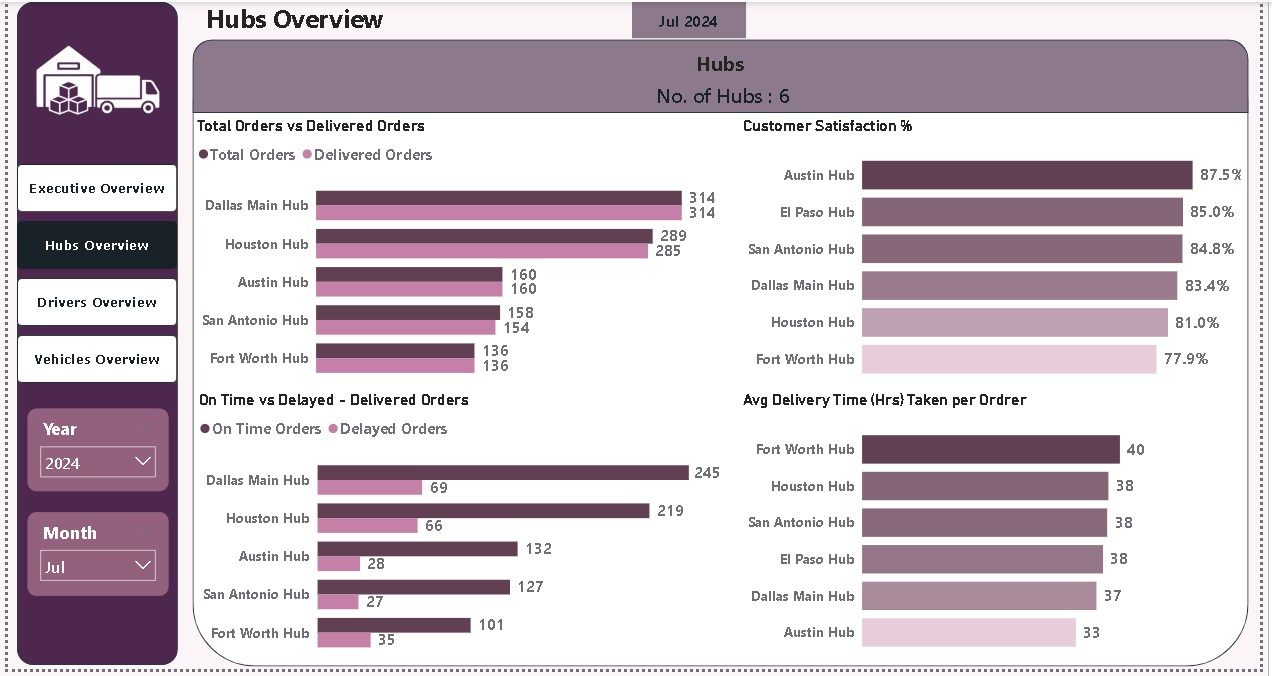

The dashboard page shown, as its layout file describes it:
{"tool":"powerbi","page":{"name":"Hubs Overview","canvas":[1360,725],"ordinal":1},"visuals":[{"type":"textbox","box":[215.2,0,221.7,37.5],"z":0},{"type":"shape","box":[9.7,0,174.9,720.6],"z":1000},{"type":"group","id":"g1","title":"Group 2","box":[200.5,41.4,1147.9,681.4],"z":2000},{"type":"textbox","box":[684.8,45.7,177.7,44],"z":3000},{"type":"cardVisual","fields":{"Data":["Hubs.Hub Count"]},"box":[679.9,76.6,195.7,47.3],"z":4000},{"type":"shape","box":[200.5,42.9,1147.9,679.9],"z":5000,"group":"g1"},{"type":"clusteredBarChart","title":"Total Orders vs Delivered Orders","fields":{"Y":["Orders.Total Orders","Orders.Delivered Orders"],"Category":["Hubs.HubName"]},"box":[200.5,123.9,572.3,301.6],"z":5000},{"type":"clusteredBarChart","title":"On Time vs Delayed - Delivered Orders","fields":{"Category":["Hubs.HubName"],"Y":["Orders.On Time Orders","Orders.Delayed Orders"]},"box":[202.2,422.3,575.6,301.6],"z":6000},{"type":"barChart","title":"Customer Satisfaction %","fields":{"Category":["Hubs.HubName"],"Y":["Orders.Customer Satisfied Orders %"]},"box":[794,123.9,551.1,301.6],"z":7000},{"type":"shape","box":[200.5,41.4,1147.9,79.9],"z":8000,"group":"g1"},{"type":"barChart","title":"Avg Delivery Time (Hrs) Taken per Ordrer","fields":{"Category":["Hubs.HubName"],"Y":["Orders.Avg Delivery Hrs"]},"box":[794,422.3,551.1,300],"z":8000},{"type":"cardVisual","fields":{"Data":["Date Table.Year Month Titile"]},"box":[678.3,0,123.9,39.1],"z":9000},{"type":"pageNavigator","box":[9.8,176.1,174.5,239.7],"z":10000},{"type":"image","box":[9.8,1.6,174.5,174.5],"z":11000},{"type":"slicer","fields":{"Values":["Date Table.Year"]},"box":[21.2,441.2,153.3,89.7],"z":12000},{"type":"slicer","fields":{"Values":["Date Table.Month"]},"box":[21.2,553.7,153.3,91.3],"z":13000}]}

Visuals, with their boxes in screenshot pixels (x1, y1, x2, y2), scaled from the page's 1360x725 canvas onto the 1272x676 screenshot:
textbox: <box>201,0,409,35</box>
shape: <box>9,0,173,672</box>
"Group 2" group: <box>188,39,1261,674</box>
textbox: <box>640,43,807,84</box>
cardVisual - Hubs.Hub Count: <box>636,71,819,116</box>
shape: <box>188,40,1261,674</box>
"Total Orders vs Delivered Orders" clusteredBarChart: <box>188,116,723,397</box>
"On Time vs Delayed - Delivered Orders" clusteredBarChart: <box>189,394,727,675</box>
"Customer Satisfaction %" barChart: <box>743,116,1258,397</box>
shape: <box>188,39,1261,113</box>
"Avg Delivery Time (Hrs) Taken per Ordrer" barChart: <box>743,394,1258,673</box>
cardVisual - Date Table.Year Month Titile: <box>634,0,750,36</box>
pageNavigator: <box>9,164,172,388</box>
image: <box>9,1,172,164</box>
slicer - Date Table.Year: <box>20,411,163,495</box>
slicer - Date Table.Month: <box>20,516,163,601</box>
